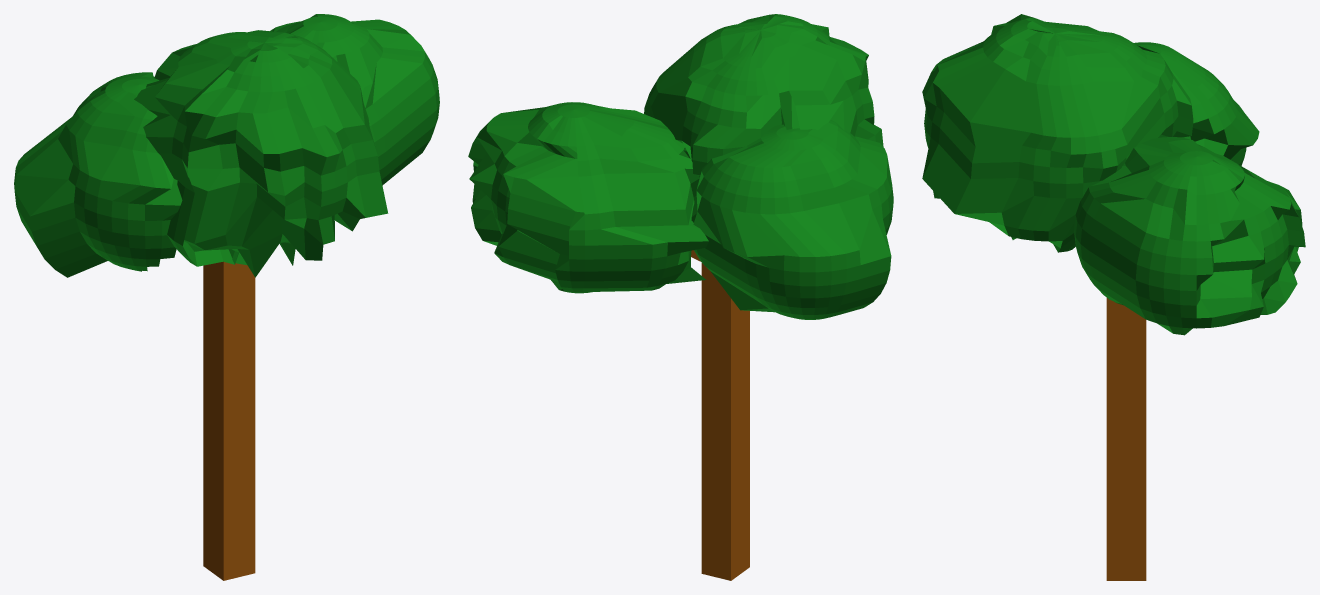
The model's file is drzewo.fbx.
The picture shows the model from 3 angles, left to right: view 1: azimuth 30°, elevation 25°; view 2: azimuth 150°, elevation 25°; view 3: azimuth 270°, elevation 25°; orthographic projection. The views are drawn at different scales.
Parts seen in each view (by area): view 1: Cube; view 2: Cube; view 3: Cube.
Boxes of the visible parts, left/top/right/bottom form: Cube: left=14, top=14, right=439, bottom=580; Cube: left=468, top=14, right=893, bottom=580; Cube: left=922, top=14, right=1305, bottom=580.
Size of the model in its own units: 551 by 695 by 444.
